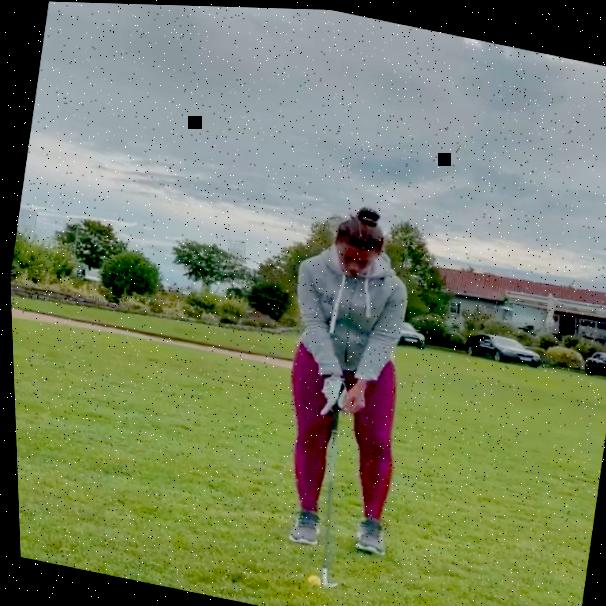ClubHead: (318, 577, 335, 590)
GolfBall: (300, 570, 320, 586)
